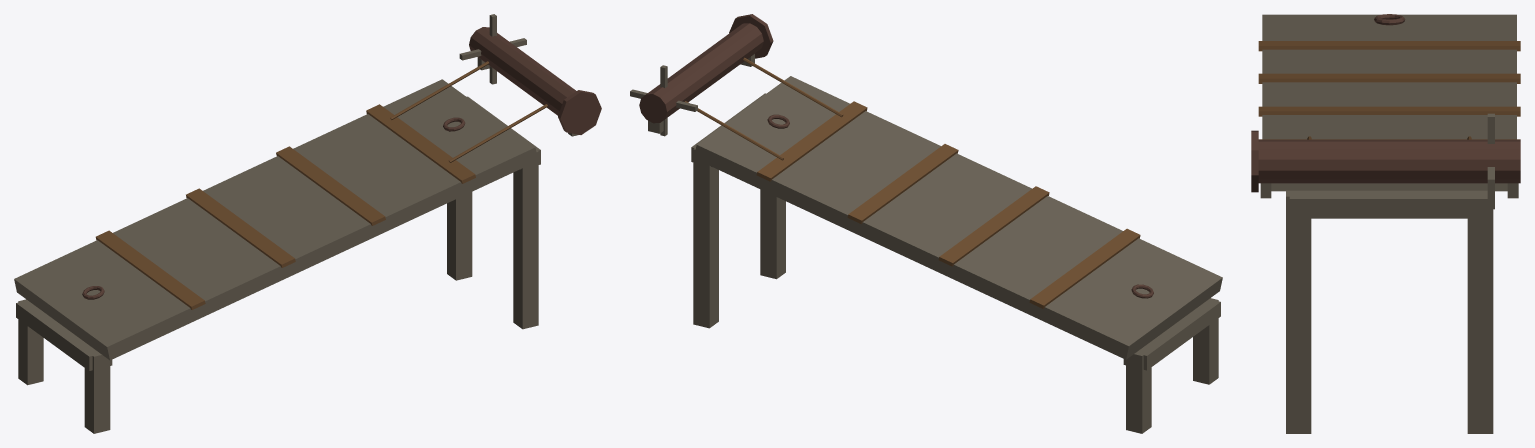
Rendered from SM_Furn_TortureRack_05.glb.
3 renders of one model, left to right at view 1: azimuth 30°, elevation 25°; view 2: azimuth 150°, elevation 25°; view 3: azimuth 270°, elevation 25°, orthographic. The views are drawn at different scales.
Visible parts, largest first — view 1: SM_Furn_TortureRack_05_Slab, SM_Furn_TortureRack_05_TrestleLeg_0.94_-1, SM_Furn_TortureRack_05_Roller, SM_Furn_TortureRack_05_TrestleLeg_0.94_1, SM_Furn_TortureRack_05_TrestleLeg_-0.92_-1, SM_Furn_TortureRack_05_TrestleBar_-0.92, SM_Furn_TortureRack_05_Strap2, SM_Furn_TortureRack_05_Strap0, SM_Furn_TortureRack_05_Strap1, SM_Furn_TortureRack_05_Strap3, SM_Furn_TortureRack_05_TrestleLeg_-0.92_1, SM_Furn_TortureRack_05_Ratchet; view 2: SM_Furn_TortureRack_05_Slab, SM_Furn_TortureRack_05_Roller, SM_Furn_TortureRack_05_TrestleLeg_0.94_1, SM_Furn_TortureRack_05_TrestleLeg_0.94_-1, SM_Furn_TortureRack_05_TrestleLeg_-0.92_1, SM_Furn_TortureRack_05_TrestleBar_-0.92, SM_Furn_TortureRack_05_Strap1, SM_Furn_TortureRack_05_Strap2, SM_Furn_TortureRack_05_Strap0, SM_Furn_TortureRack_05_Strap3, SM_Furn_TortureRack_05_TrestleLeg_-0.92_-1, SM_Furn_TortureRack_05_Ratchet; view 3: SM_Furn_TortureRack_05_Slab, SM_Furn_TortureRack_05_Roller, SM_Furn_TortureRack_05_TrestleLeg_0.94_1, SM_Furn_TortureRack_05_TrestleLeg_0.94_-1, SM_Furn_TortureRack_05_TrestleBar_0.94, SM_Furn_TortureRack_05_Strap1, SM_Furn_TortureRack_05_Strap0, SM_Furn_TortureRack_05_Strap2, SM_Furn_TortureRack_05_Ratchet, SM_Furn_TortureRack_05_Spoke1, SM_Furn_TortureRack_05_ShackleRing0.
Boxes of the visible parts, x1=… form: SM_Furn_TortureRack_05_Slab: x1=14, y1=79, x2=538, y2=360; SM_Furn_TortureRack_05_TrestleLeg_0.94_-1: x1=513, y1=150, x2=538, y2=329; SM_Furn_TortureRack_05_Roller: x1=469, y1=27, x2=576, y2=115; SM_Furn_TortureRack_05_TrestleLeg_0.94_1: x1=447, y1=192, x2=472, y2=280; SM_Furn_TortureRack_05_TrestleLeg_-0.92_-1: x1=84, y1=348, x2=110, y2=433; SM_Furn_TortureRack_05_TrestleBar_-0.92: x1=16, y1=300, x2=112, y2=370; SM_Furn_TortureRack_05_Strap2: x1=276, y1=146, x2=385, y2=225; SM_Furn_TortureRack_05_Strap0: x1=95, y1=230, x2=205, y2=309; SM_Furn_TortureRack_05_Strap1: x1=186, y1=188, x2=295, y2=267; SM_Furn_TortureRack_05_Strap3: x1=366, y1=104, x2=475, y2=183; SM_Furn_TortureRack_05_TrestleLeg_-0.92_1: x1=18, y1=299, x2=43, y2=385; SM_Furn_TortureRack_05_Ratchet: x1=558, y1=90, x2=601, y2=134; SM_Furn_TortureRack_05_Slab: x1=694, y1=76, x2=1222, y2=359; SM_Furn_TortureRack_05_Roller: x1=639, y1=23, x2=763, y2=123; SM_Furn_TortureRack_05_TrestleLeg_0.94_1: x1=693, y1=147, x2=718, y2=328; SM_Furn_TortureRack_05_TrestleLeg_0.94_-1: x1=760, y1=189, x2=785, y2=279; SM_Furn_TortureRack_05_TrestleLeg_-0.92_1: x1=1126, y1=347, x2=1151, y2=433; SM_Furn_TortureRack_05_TrestleBar_-0.92: x1=1123, y1=301, x2=1220, y2=370; SM_Furn_TortureRack_05_Strap1: x1=938, y1=186, x2=1049, y2=266; SM_Furn_TortureRack_05_Strap2: x1=847, y1=144, x2=958, y2=223; SM_Furn_TortureRack_05_Strap0: x1=1029, y1=228, x2=1140, y2=308; SM_Furn_TortureRack_05_Strap3: x1=756, y1=101, x2=867, y2=181; SM_Furn_TortureRack_05_TrestleLeg_-0.92_-1: x1=1193, y1=298, x2=1218, y2=384; SM_Furn_TortureRack_05_Ratchet: x1=729, y1=14, x2=773, y2=58; SM_Furn_TortureRack_05_Slab: x1=1262, y1=14, x2=1516, y2=191; SM_Furn_TortureRack_05_Roller: x1=1258, y1=139, x2=1520, y2=183; SM_Furn_TortureRack_05_TrestleLeg_0.94_1: x1=1467, y1=190, x2=1493, y2=433; SM_Furn_TortureRack_05_TrestleLeg_0.94_-1: x1=1286, y1=190, x2=1311, y2=433; SM_Furn_TortureRack_05_TrestleBar_0.94: x1=1289, y1=190, x2=1489, y2=218; SM_Furn_TortureRack_05_Strap1: x1=1258, y1=73, x2=1520, y2=83; SM_Furn_TortureRack_05_Strap0: x1=1258, y1=41, x2=1520, y2=51; SM_Furn_TortureRack_05_Strap2: x1=1258, y1=106, x2=1520, y2=116; SM_Furn_TortureRack_05_Ratchet: x1=1251, y1=130, x2=1258, y2=192; SM_Furn_TortureRack_05_Spoke1: x1=1487, y1=113, x2=1494, y2=209; SM_Furn_TortureRack_05_ShackleRing0: x1=1374, y1=14, x2=1405, y2=25.
Size of the model in its own units: 2.21 by 1.03 by 0.74.
